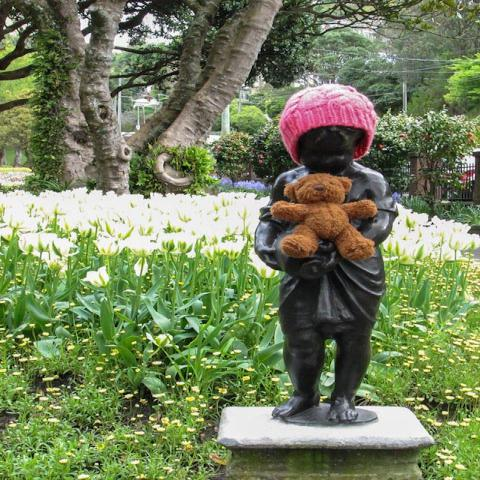car: (439, 154, 474, 200)
